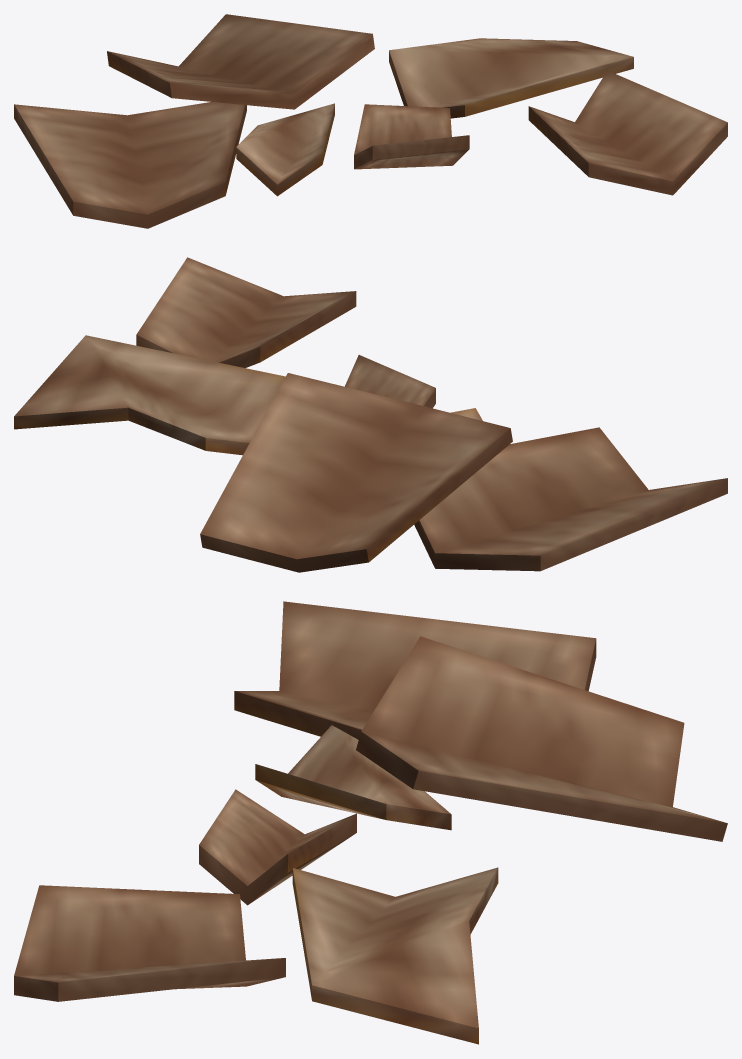
File: a_SWCash04.glb
The picture shows the model from 3 angles, top to bottom: view 1: azimuth 30°, elevation 25°; view 2: azimuth 150°, elevation 25°; view 3: azimuth 270°, elevation 25°; orthographic projection. The views are drawn at different scales.
Parts seen in each view (by area): view 1: a_SWCash04; view 2: a_SWCash04; view 3: a_SWCash04.
Boxes of the visible parts, x1,y1,x2,y2 form: a_SWCash04: (14, 14, 727, 228); a_SWCash04: (14, 257, 727, 572); a_SWCash04: (14, 601, 727, 1044).
Bounding box in the file's own units: 0.3479 × 0.0522 × 0.274.
Materials: 1 (1 with a texture image).
